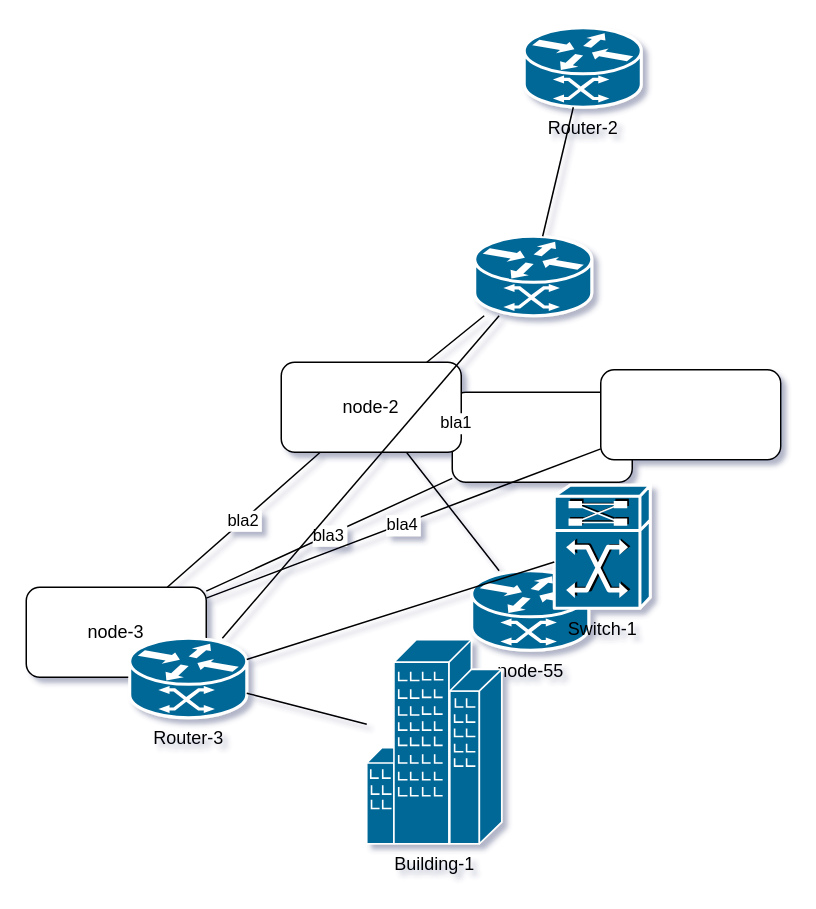
The diagram is 816 pixels wide and 909 high, and some of its shapes have lost their labels. The shapes that lost their labels are listed below. From the top down, each one's centre as x and y in pixels, then its label:
the point at 532,275: Router-1
the point at 690,414: node-4
the point at 541,436: node-1
